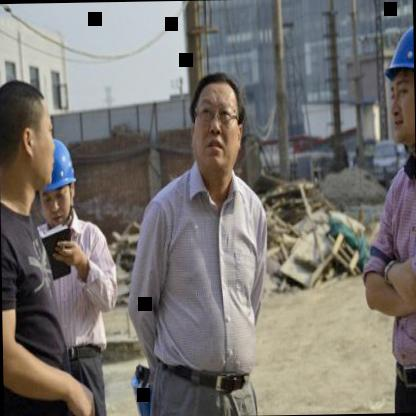head: (186, 63, 250, 182), (0, 77, 55, 202)
helmet: (382, 15, 415, 142), (44, 140, 76, 220)
